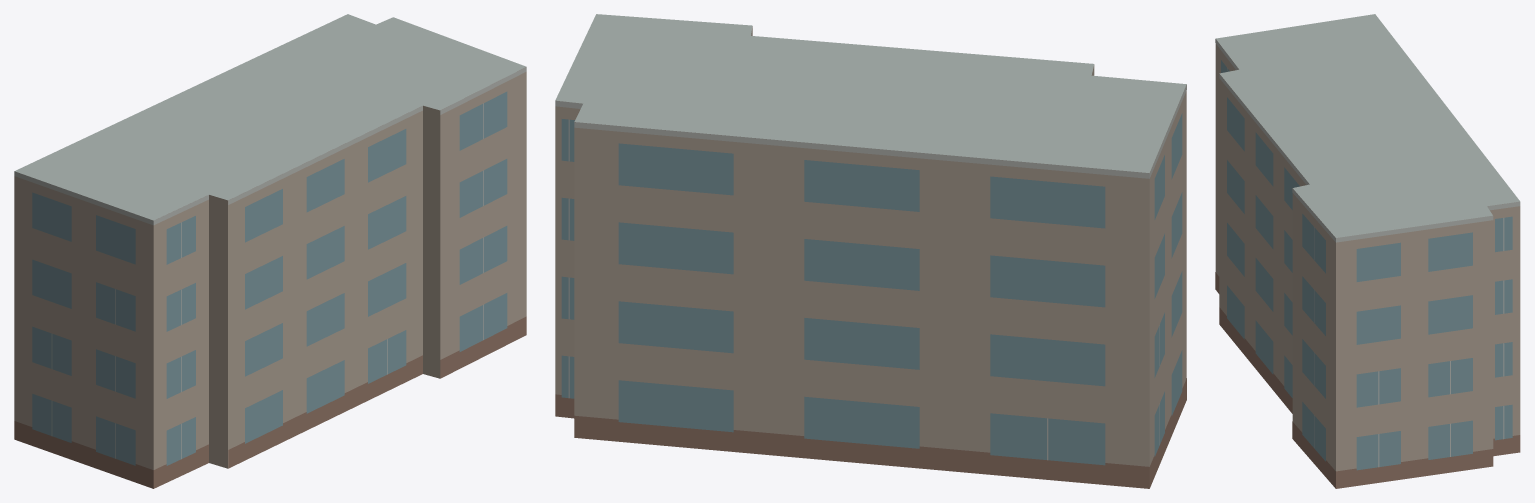
File: survey-upis-32979166.glb
3 renders of one model, left to right at view 1: azimuth 30°, elevation 25°; view 2: azimuth 150°, elevation 25°; view 3: azimuth 270°, elevation 25°, orthographic. The views are drawn at different scales.
Visible parts, largest first — view 1: survey-upis-32979166.tmp; view 2: survey-upis-32979166.tmp; view 3: survey-upis-32979166.tmp.
Part boxes in pixels (x1,y1,x2,y2): survey-upis-32979166.tmp: (14,14,526,488); survey-upis-32979166.tmp: (555,14,1186,488); survey-upis-32979166.tmp: (1215,14,1520,488).
Bounding box in the file's own units: 25.87 × 13.5 × 14.88.
